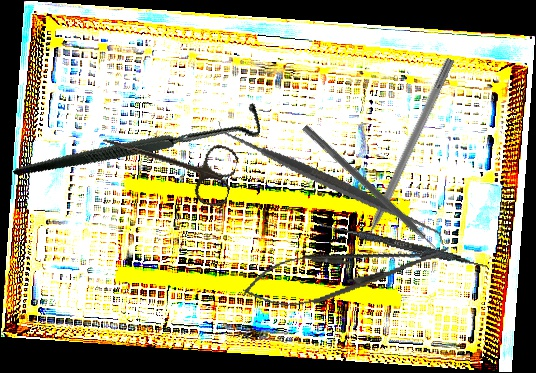Hook Surgical: (12, 41, 268, 240)
Iris Scissors: (94, 113, 241, 210)
Needle Holder: (239, 228, 453, 318)
Pusher: (351, 56, 456, 260)
Spatula Surgical: (218, 72, 444, 294), (296, 124, 449, 264), (315, 220, 490, 270)
